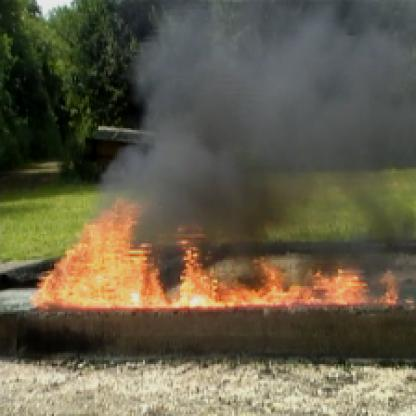Fire: (169, 225, 403, 312), (30, 197, 167, 314)
Smoke: (121, 2, 414, 221)
